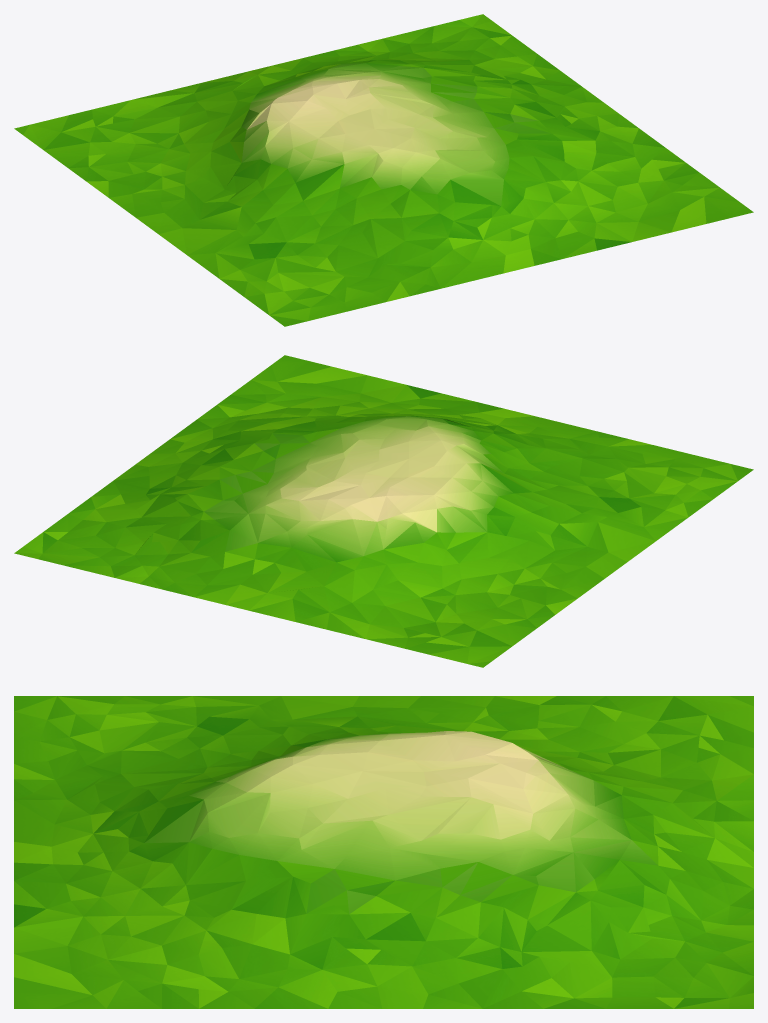
File: GL-Terrain-part-02-LOD2.fbx
3 renders of one model, top to bottom at view 1: azimuth 30°, elevation 25°; view 2: azimuth 150°, elevation 25°; view 3: azimuth 270°, elevation 25°, orthographic. The views are drawn at different scales.
Visible parts, largest first — view 1: GL_Terrain_part_02; view 2: GL_Terrain_part_02; view 3: GL_Terrain_part_02.
Boxes of the visible parts, x1,y1,x2,y2 form: GL_Terrain_part_02: (14,14,753,326); GL_Terrain_part_02: (14,355,753,667); GL_Terrain_part_02: (14,696,753,1008).
Size of the model in its own units: 18 by 1.99 by 18.
